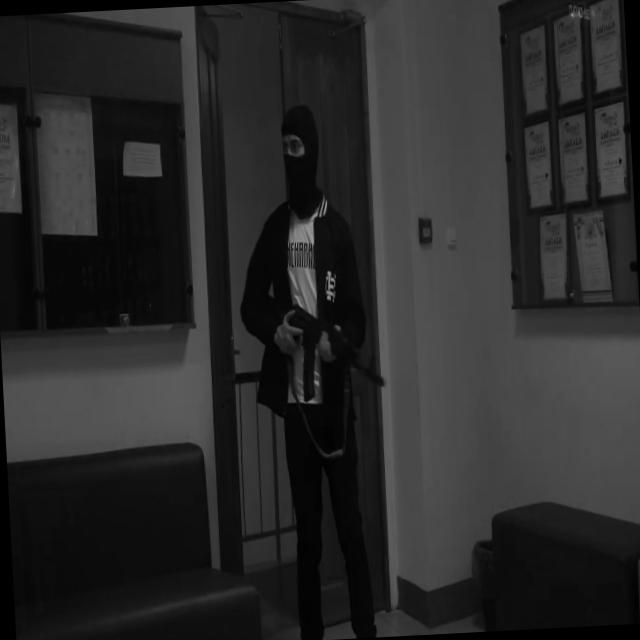gun: (260, 285, 385, 403)
person with a gun: (229, 101, 398, 640)
